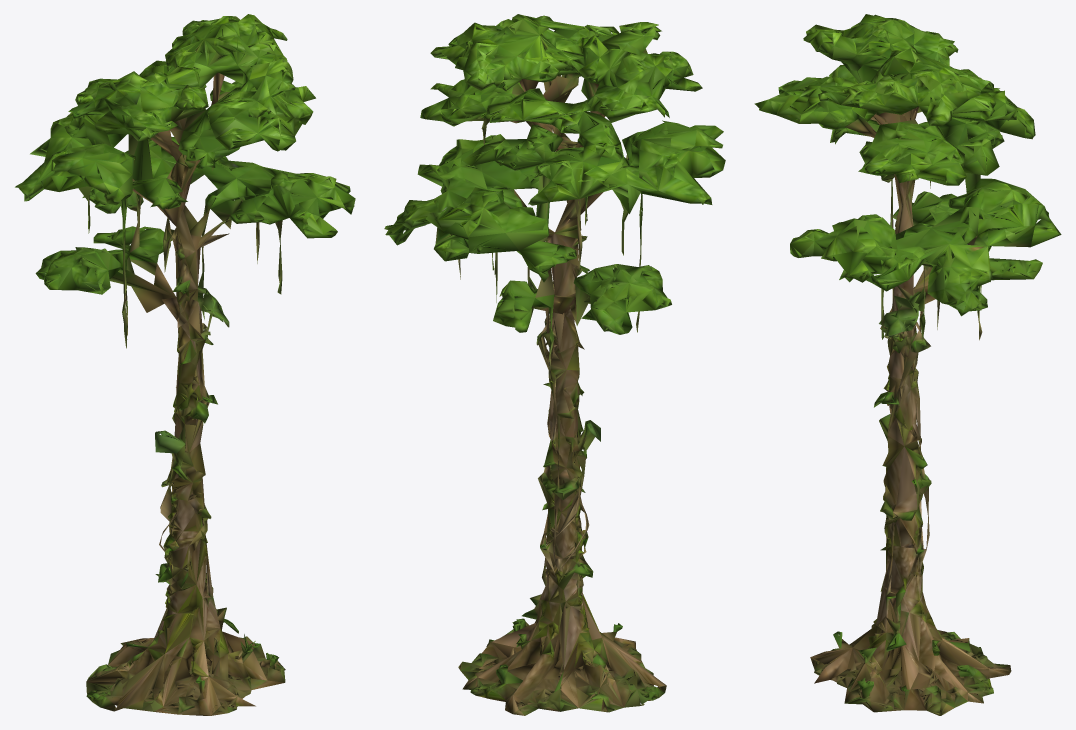
Rendered from SM_Jungle_Tripo.gltf.
3 views of the same model, side by side, from view 1: azimuth 30°, elevation 25°; view 2: azimuth 150°, elevation 25°; view 3: azimuth 270°, elevation 25° (orthographic).
Visible parts, largest first — view 1: SM_Jungle_Tripo; view 2: SM_Jungle_Tripo; view 3: SM_Jungle_Tripo.
Boxes of the visible parts, x1=… form: SM_Jungle_Tripo: x1=15, y1=14, x2=355, y2=715; SM_Jungle_Tripo: x1=384, y1=14, x2=725, y2=715; SM_Jungle_Tripo: x1=754, y1=14, x2=1061, y2=715.
Size of the model in its own units: 9.98 by 19.88 by 8.58.
1 material, 1 textured.
